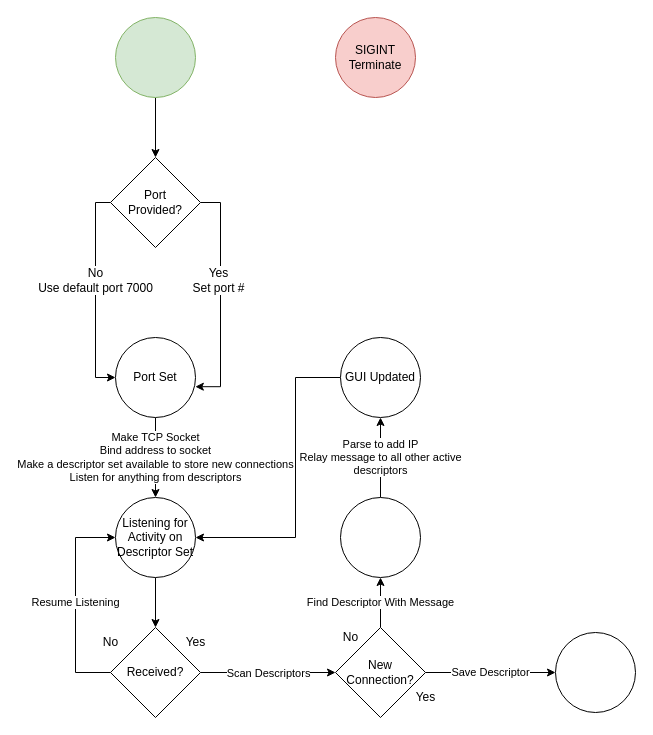
This 653x735 diagram has some shape labels left out. The shapes that lost their labels are listed below. From the top down, each one's centre as x and y in pixels, then its label:
At (x=155, y=57): "Start".
At (x=380, y=537): "Message Received".
At (x=595, y=672): "Descriptor Saved".
